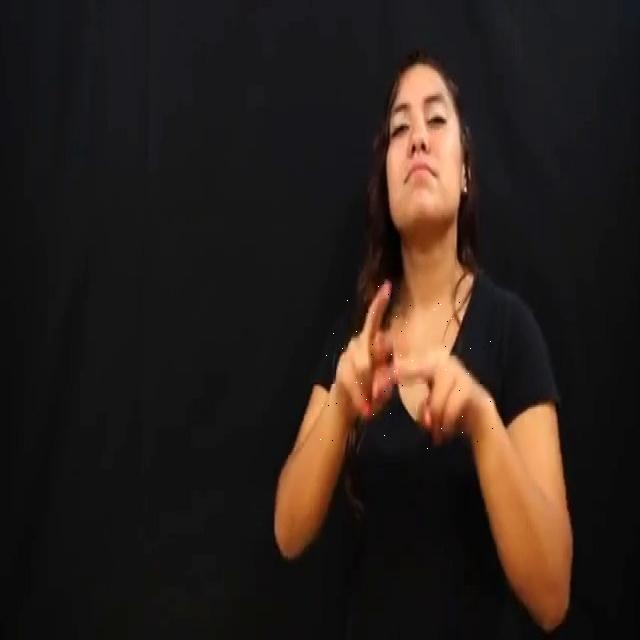salt: (320, 286, 494, 450)
